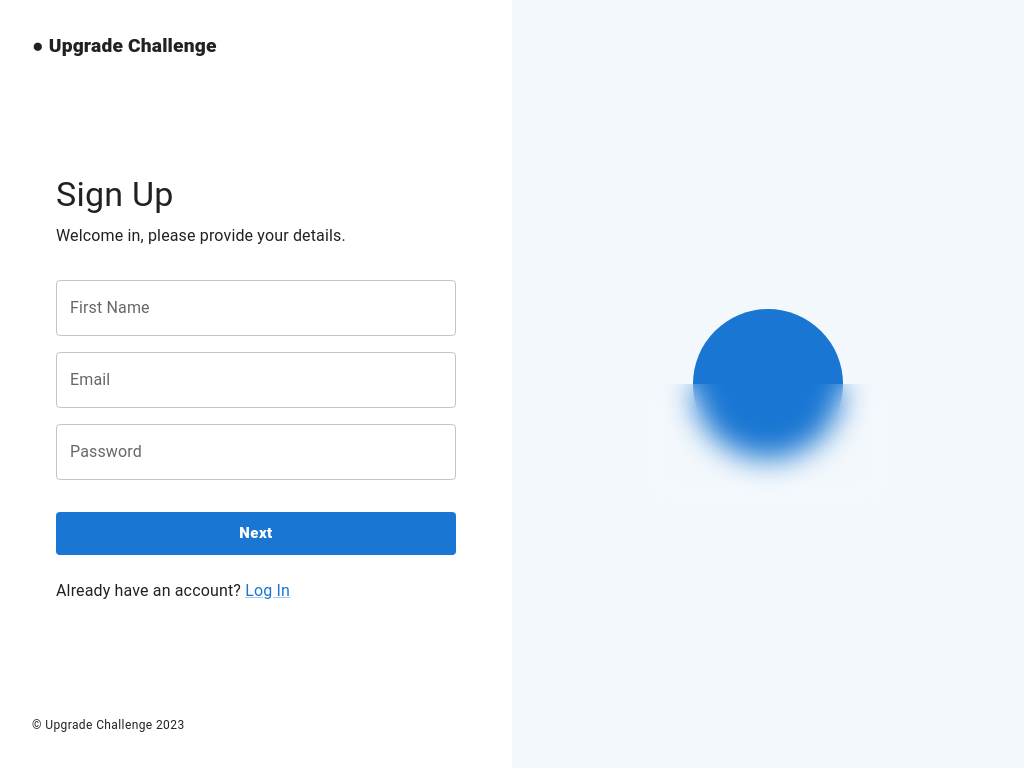
SignUpPage › should update password error on blur
This screenshot has width=1024, height=768.
Click the button with test id "next-button" at [256, 533], box left=56, top=512, right=456, bottom=555
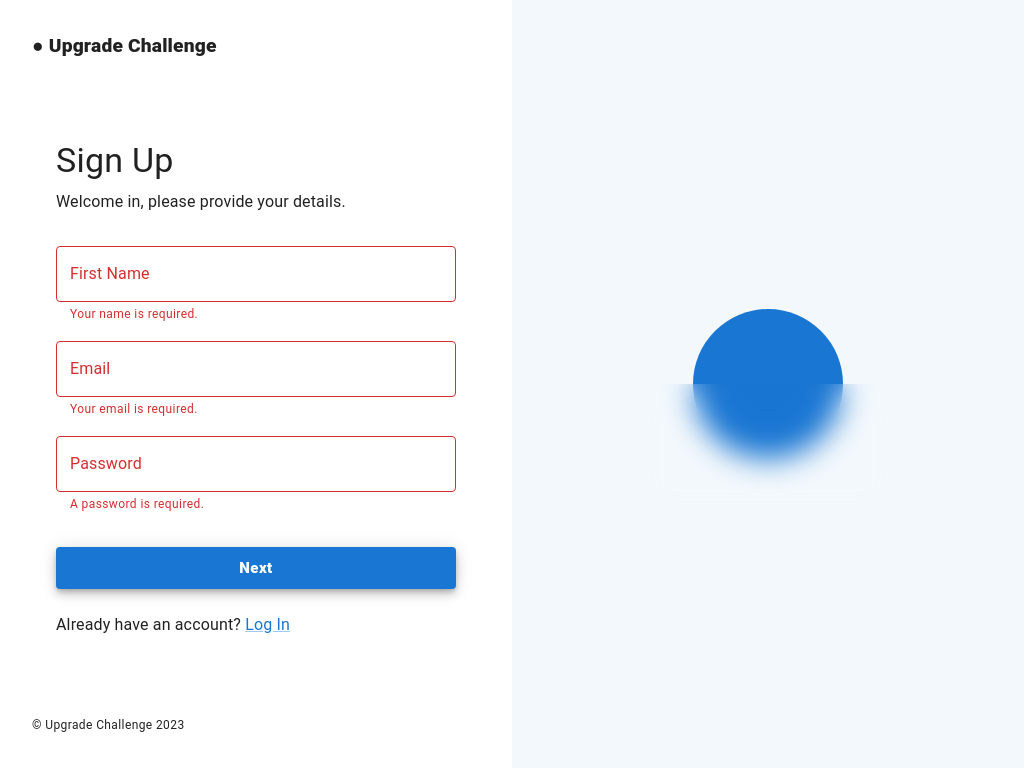
Now the text "A password is required." is shown, box left=70, top=497, right=204, bottom=511
Type "abc" into the password field labelled "Password" at [256, 464], box left=56, top=436, right=456, bottom=492
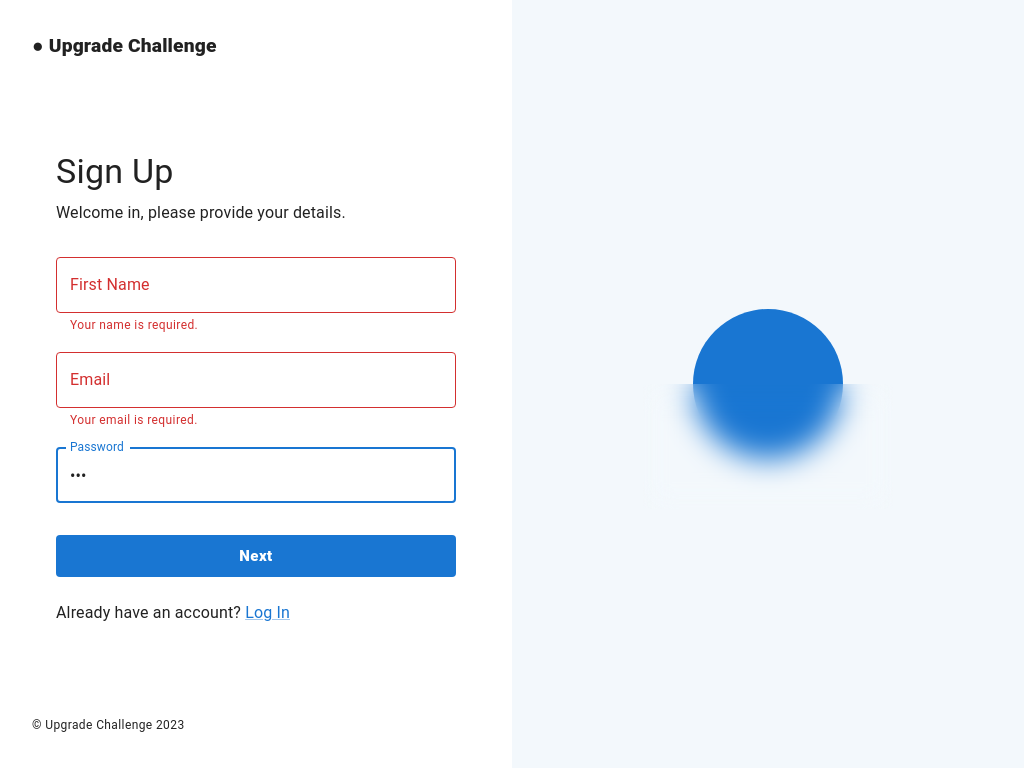
Click the button with test id "next-button" at [256, 556], box left=56, top=535, right=456, bottom=578
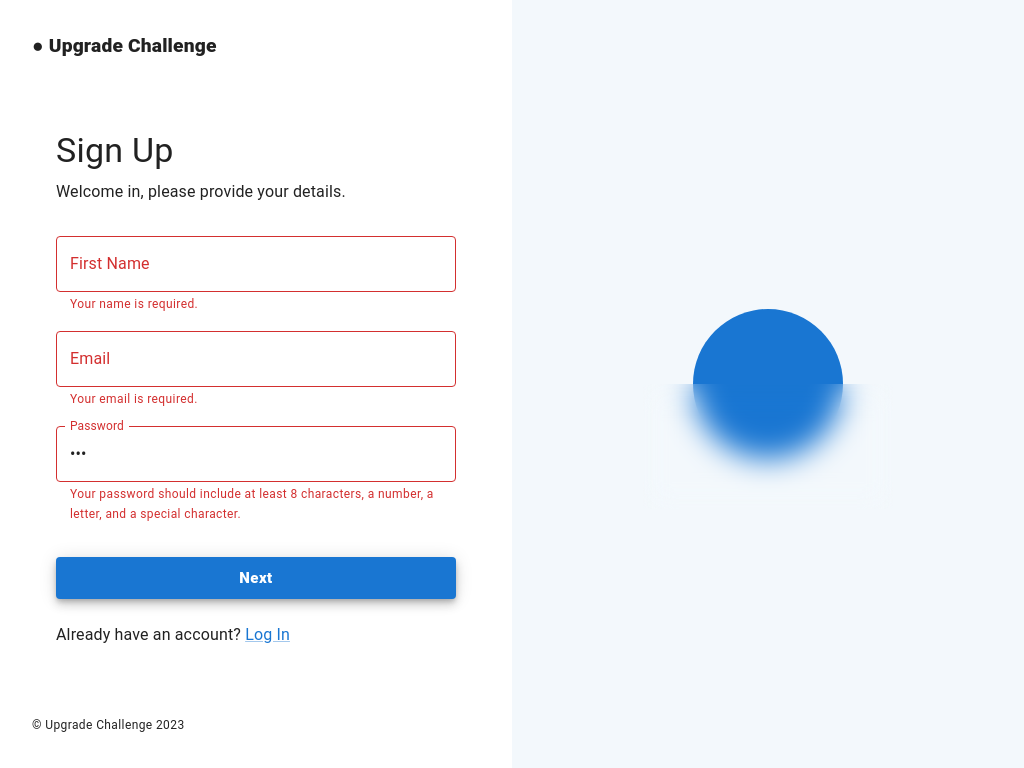
Now the text "Your password should include at least 8 characters, a number, a letter, and a special character." is shown, box left=70, top=487, right=434, bottom=521
